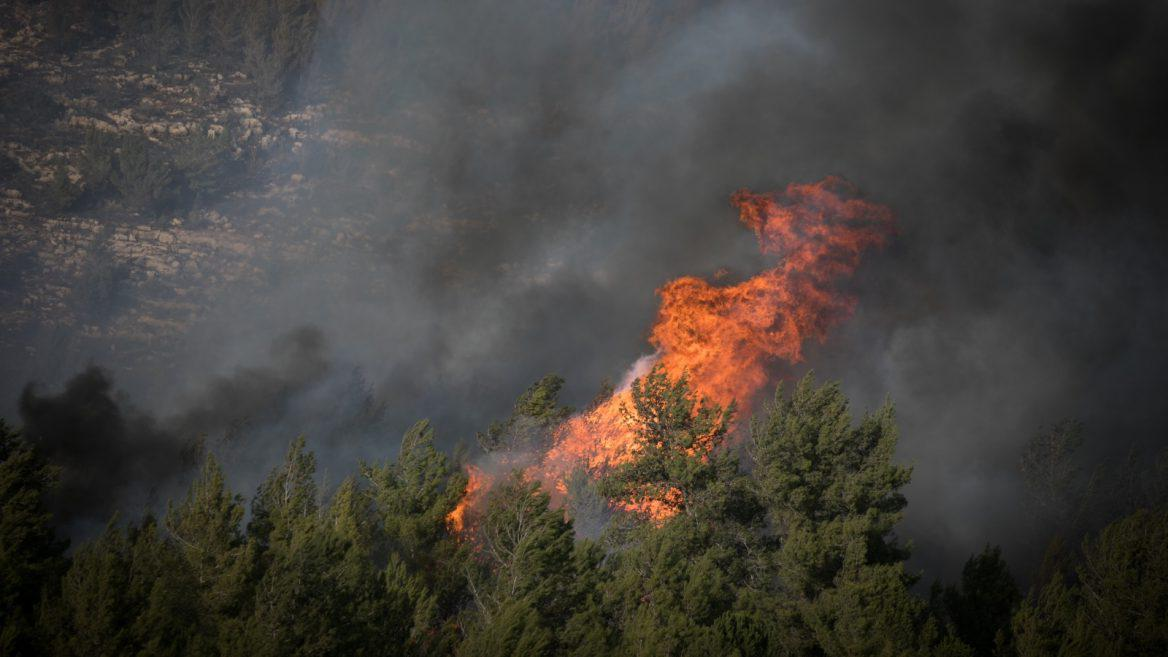fire: (532, 169, 881, 524)
